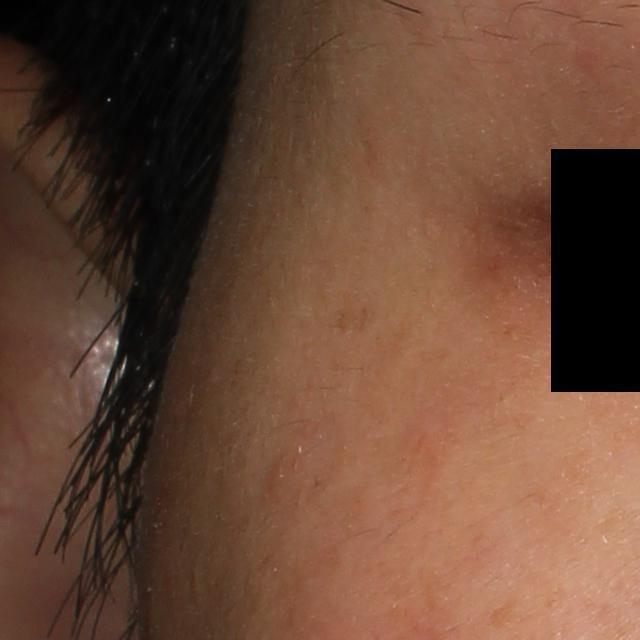melasma: (331, 305, 378, 335)
